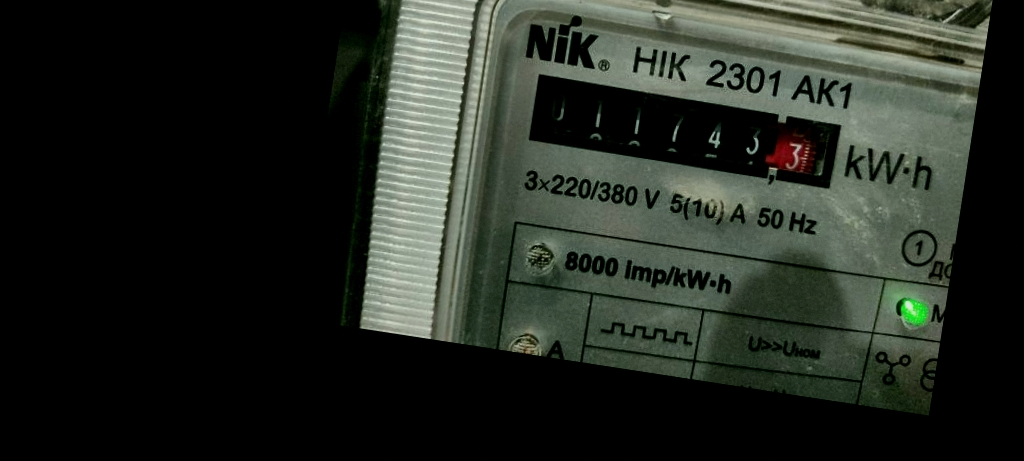0: (545, 87, 570, 125)
1: (628, 101, 648, 136), (591, 95, 606, 129)
3: (740, 121, 764, 158), (782, 139, 804, 175)
4: (703, 115, 725, 151)
7: (665, 108, 688, 145)
screen: (511, 60, 856, 203)
